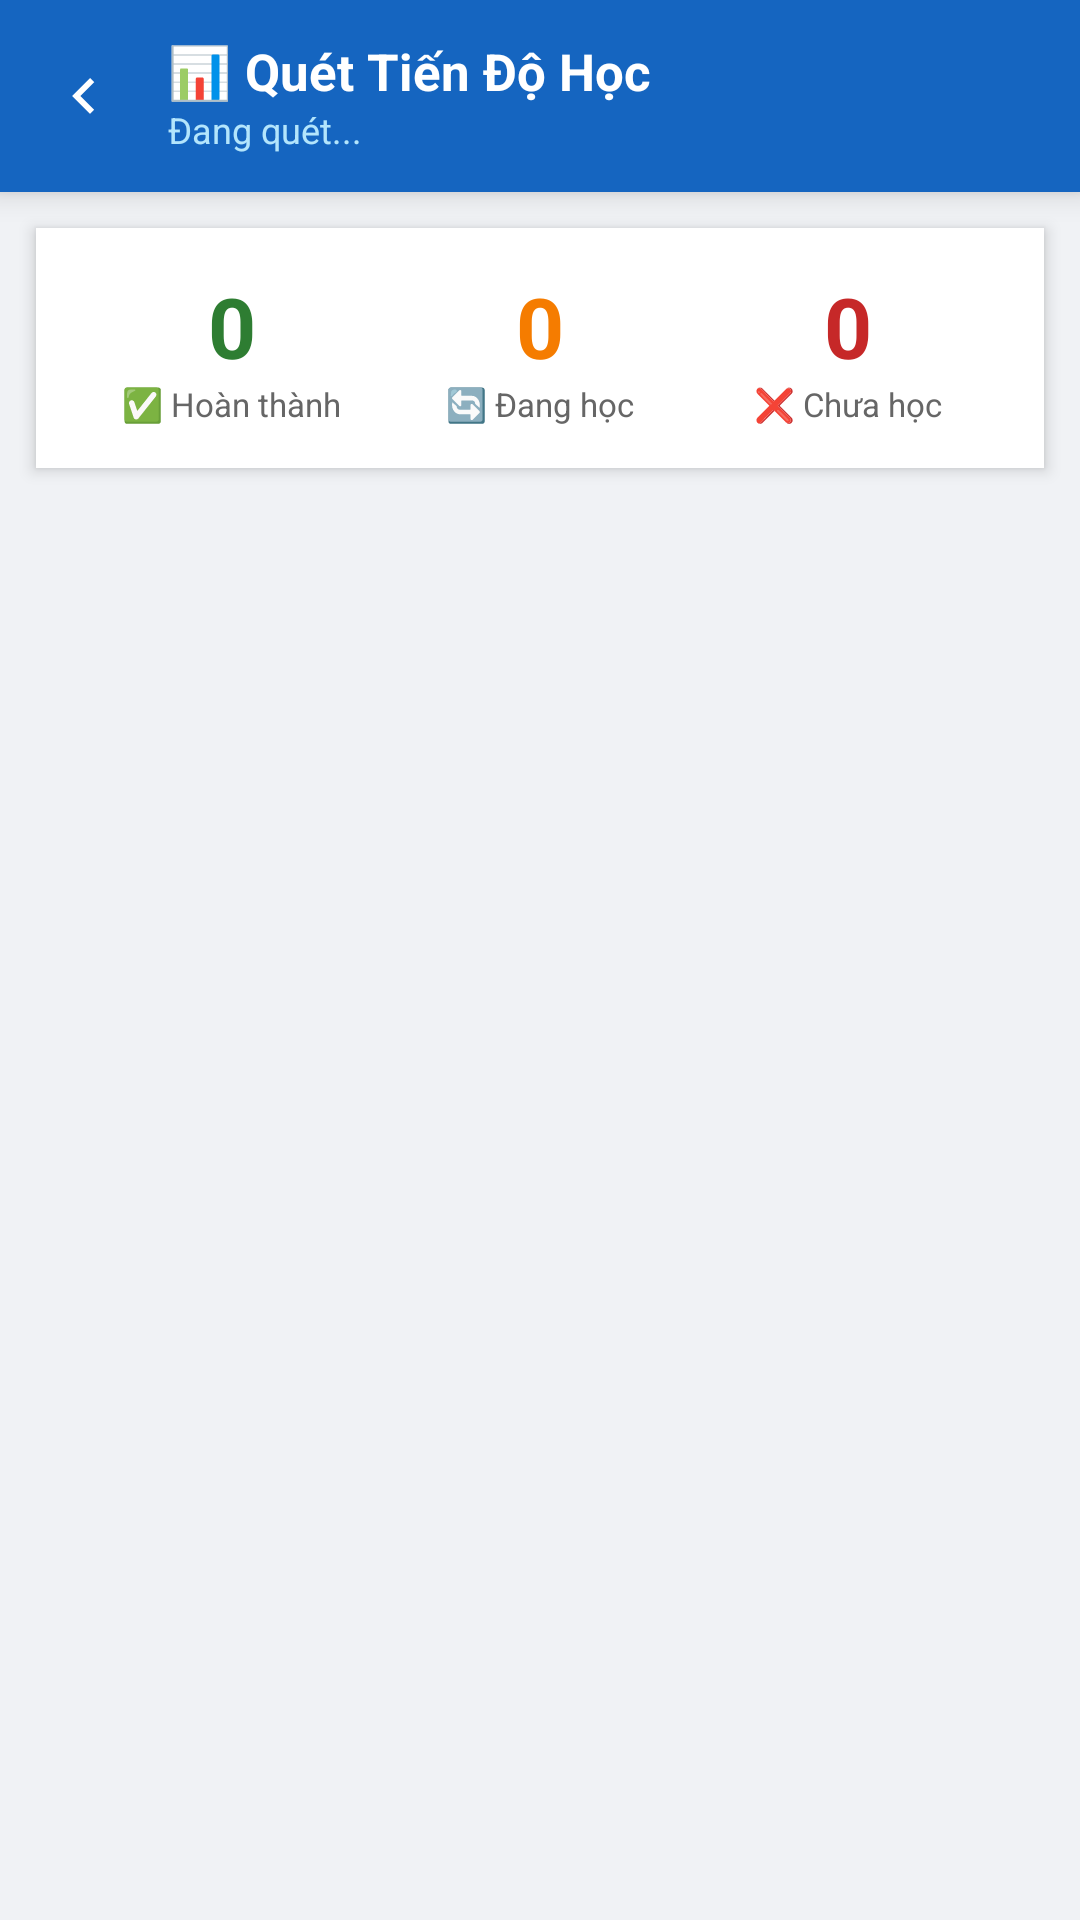

Screen size 1080px×1920px. Icon name, then its box in pixels as (x1, y1, x2, y2):
Quay lại: (72, 78, 94, 114)
